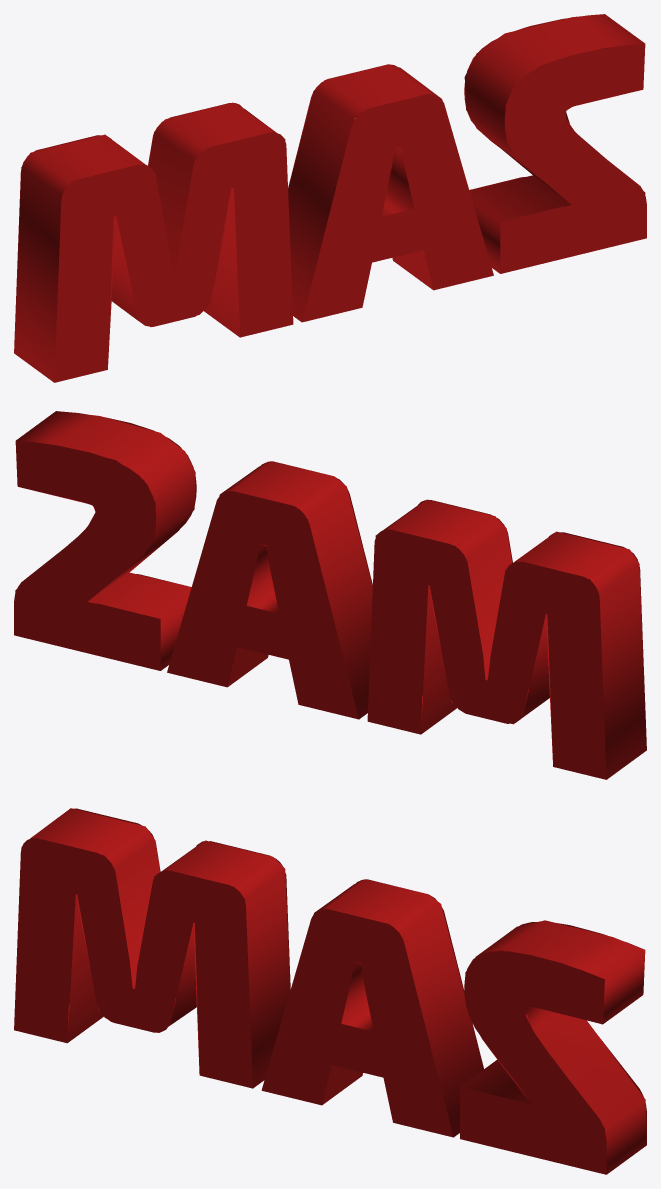
The picture shows the model from 3 angles, top to bottom: view 1: azimuth 30°, elevation 25°; view 2: azimuth 150°, elevation 25°; view 3: azimuth 330°, elevation 25°; orthographic projection.
Visible parts, largest first — view 1: Text; view 2: Text; view 3: Text.
Part boxes in pixels (x1=…): Text: x1=14, y1=14, x2=646, y2=382; Text: x1=14, y1=411, x2=646, y2=779; Text: x1=14, y1=808, x2=646, y2=1174.
Bounding box in the file's own units: 6.77 × 2.2 × 0.8.
